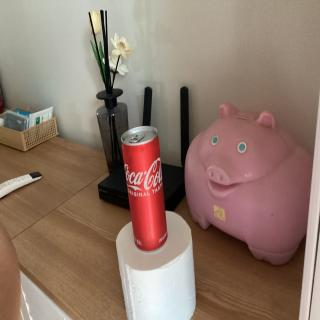cocacola: (118, 121, 174, 256)
